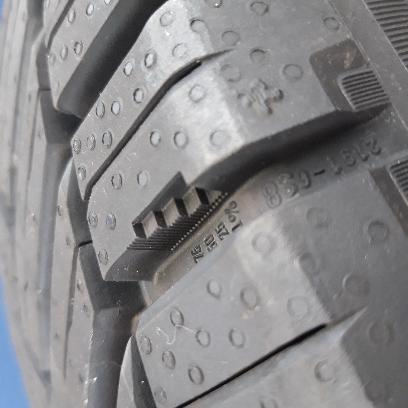temoin:100: (125, 169, 233, 255)
